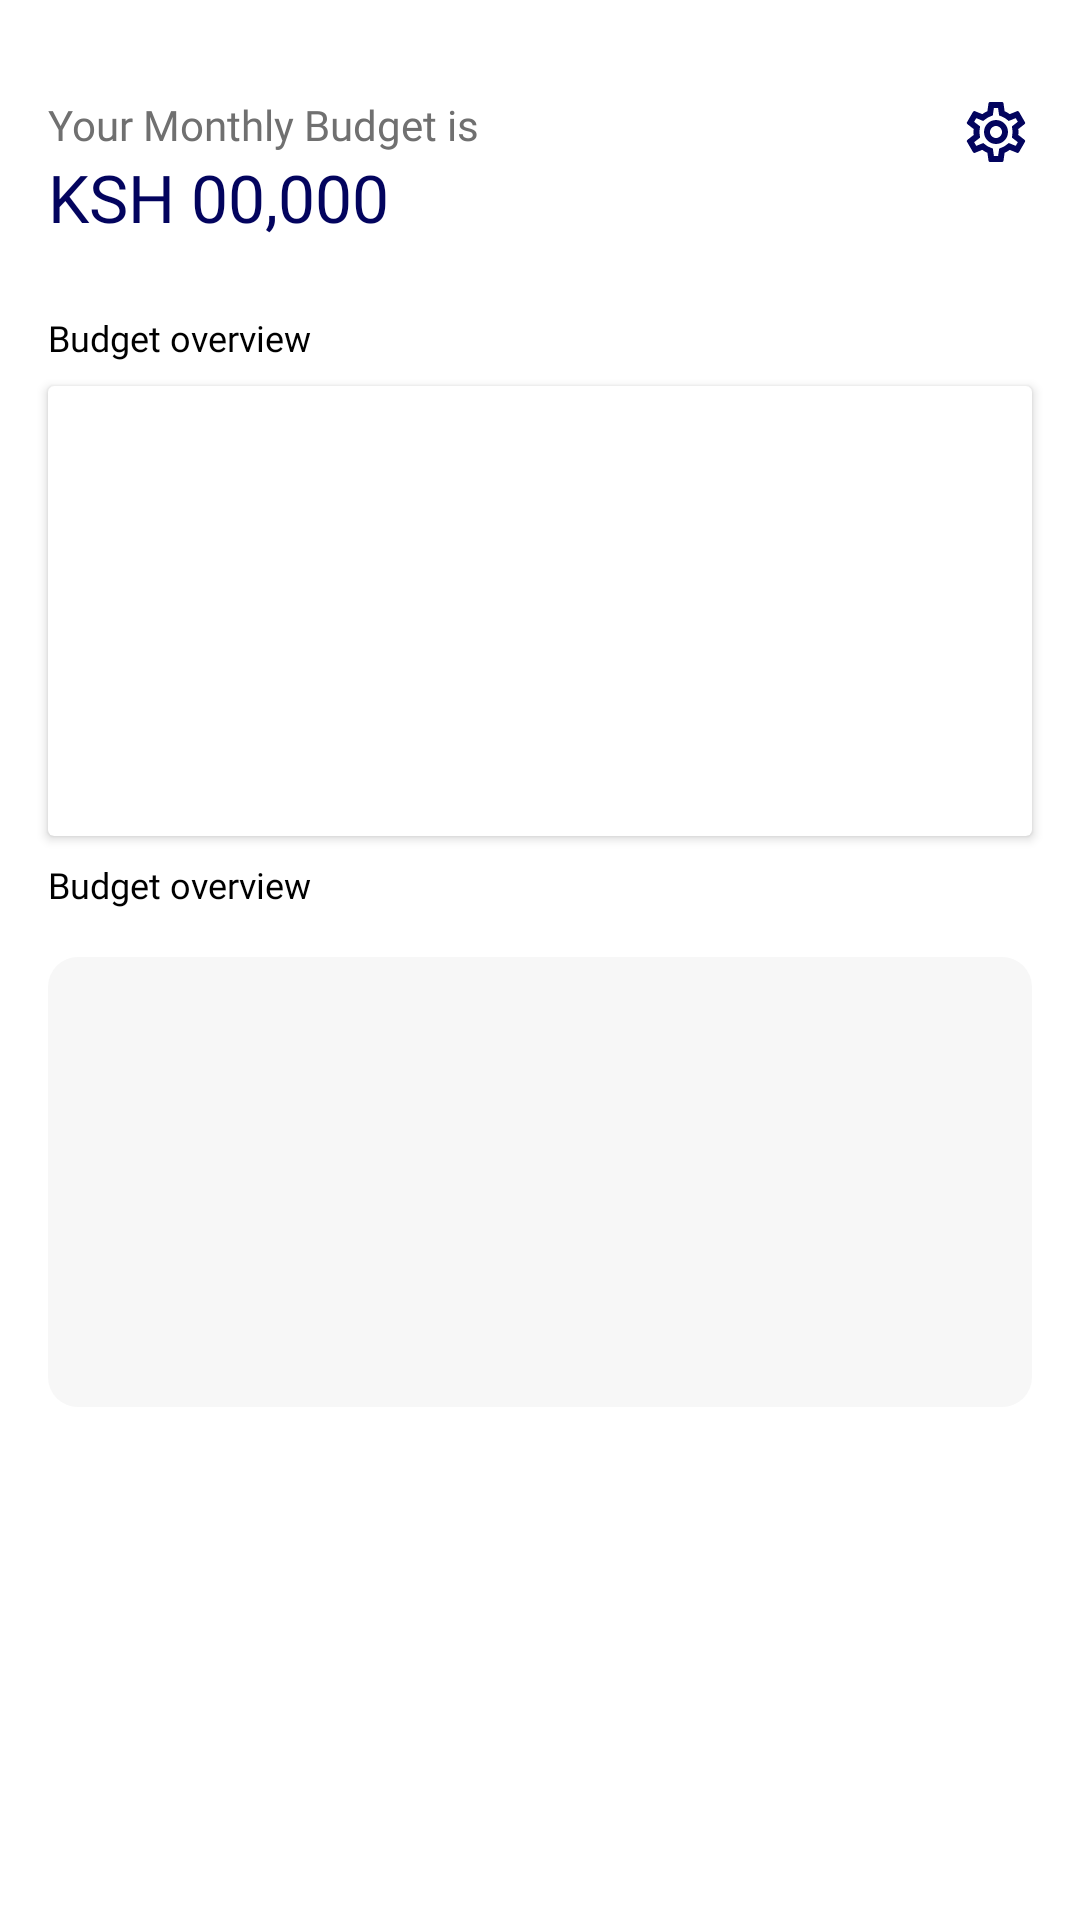

Named icons in this screenshot (1080px x 1920px) and their bounding boxes, [x1, y1, x2, y2]:
settings: [966, 102, 1025, 162]
